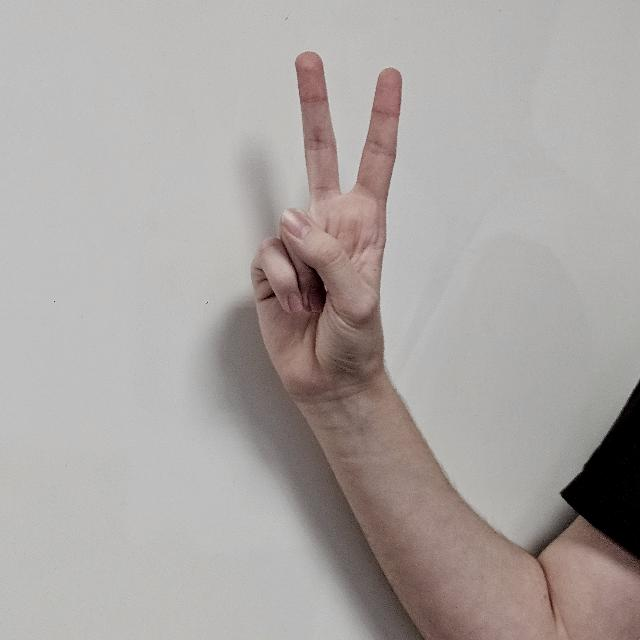Triangulo: (236, 48, 424, 454)
